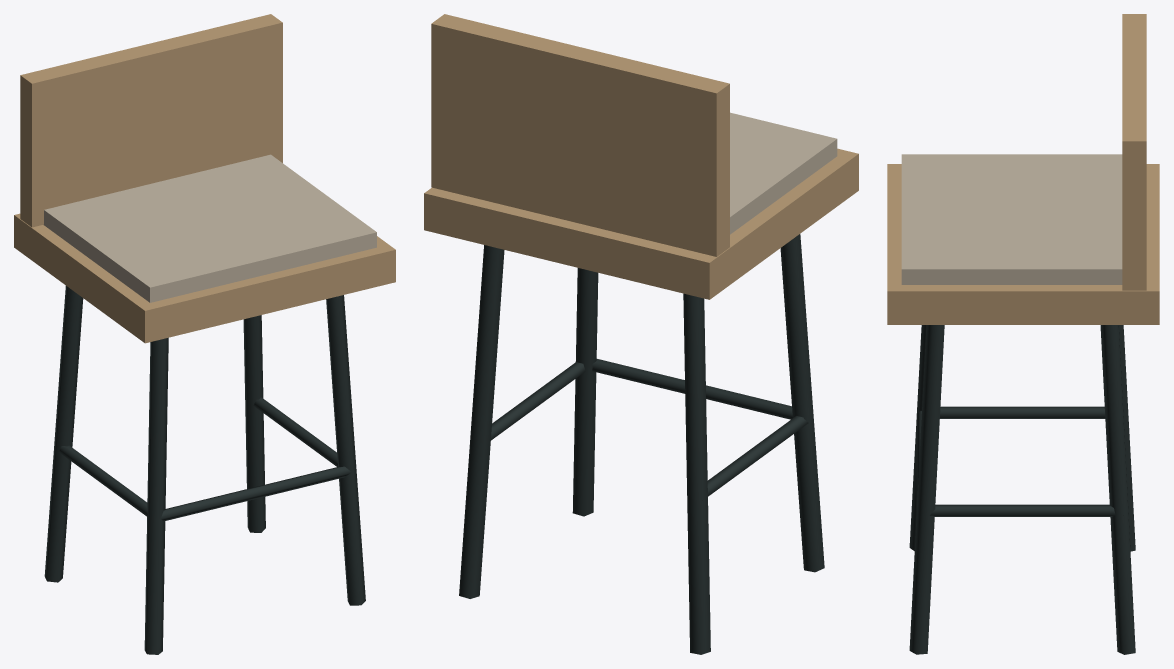
File: stool-lightweight-87159e40ac.glb
The picture shows the model from 3 angles, left to right: view 1: azimuth 30°, elevation 25°; view 2: azimuth 150°, elevation 25°; view 3: azimuth 270°, elevation 25°; orthographic projection. The views are drawn at different scales.
Visible parts, largest first — view 1: oak, textile, dark; view 2: oak, dark, textile; view 3: textile, oak, dark.
Part boxes in pixels (x1=…): oak: x1=14, y1=14, x2=395, y2=343; textile: x1=43, y1=154, x2=376, y2=302; dark: x1=44, y1=286, x2=365, y2=654; oak: x1=424, y1=14, x2=858, y2=299; dark: x1=459, y1=234, x2=824, y2=654; textile: x1=730, y1=112, x2=837, y2=234; textile: x1=901, y1=154, x2=1122, y2=284; oak: x1=887, y1=14, x2=1159, y2=324; dark: x1=909, y1=325, x2=1135, y2=654.
Size of the model in its own units: 0.42 by 0.8049 by 0.38.
